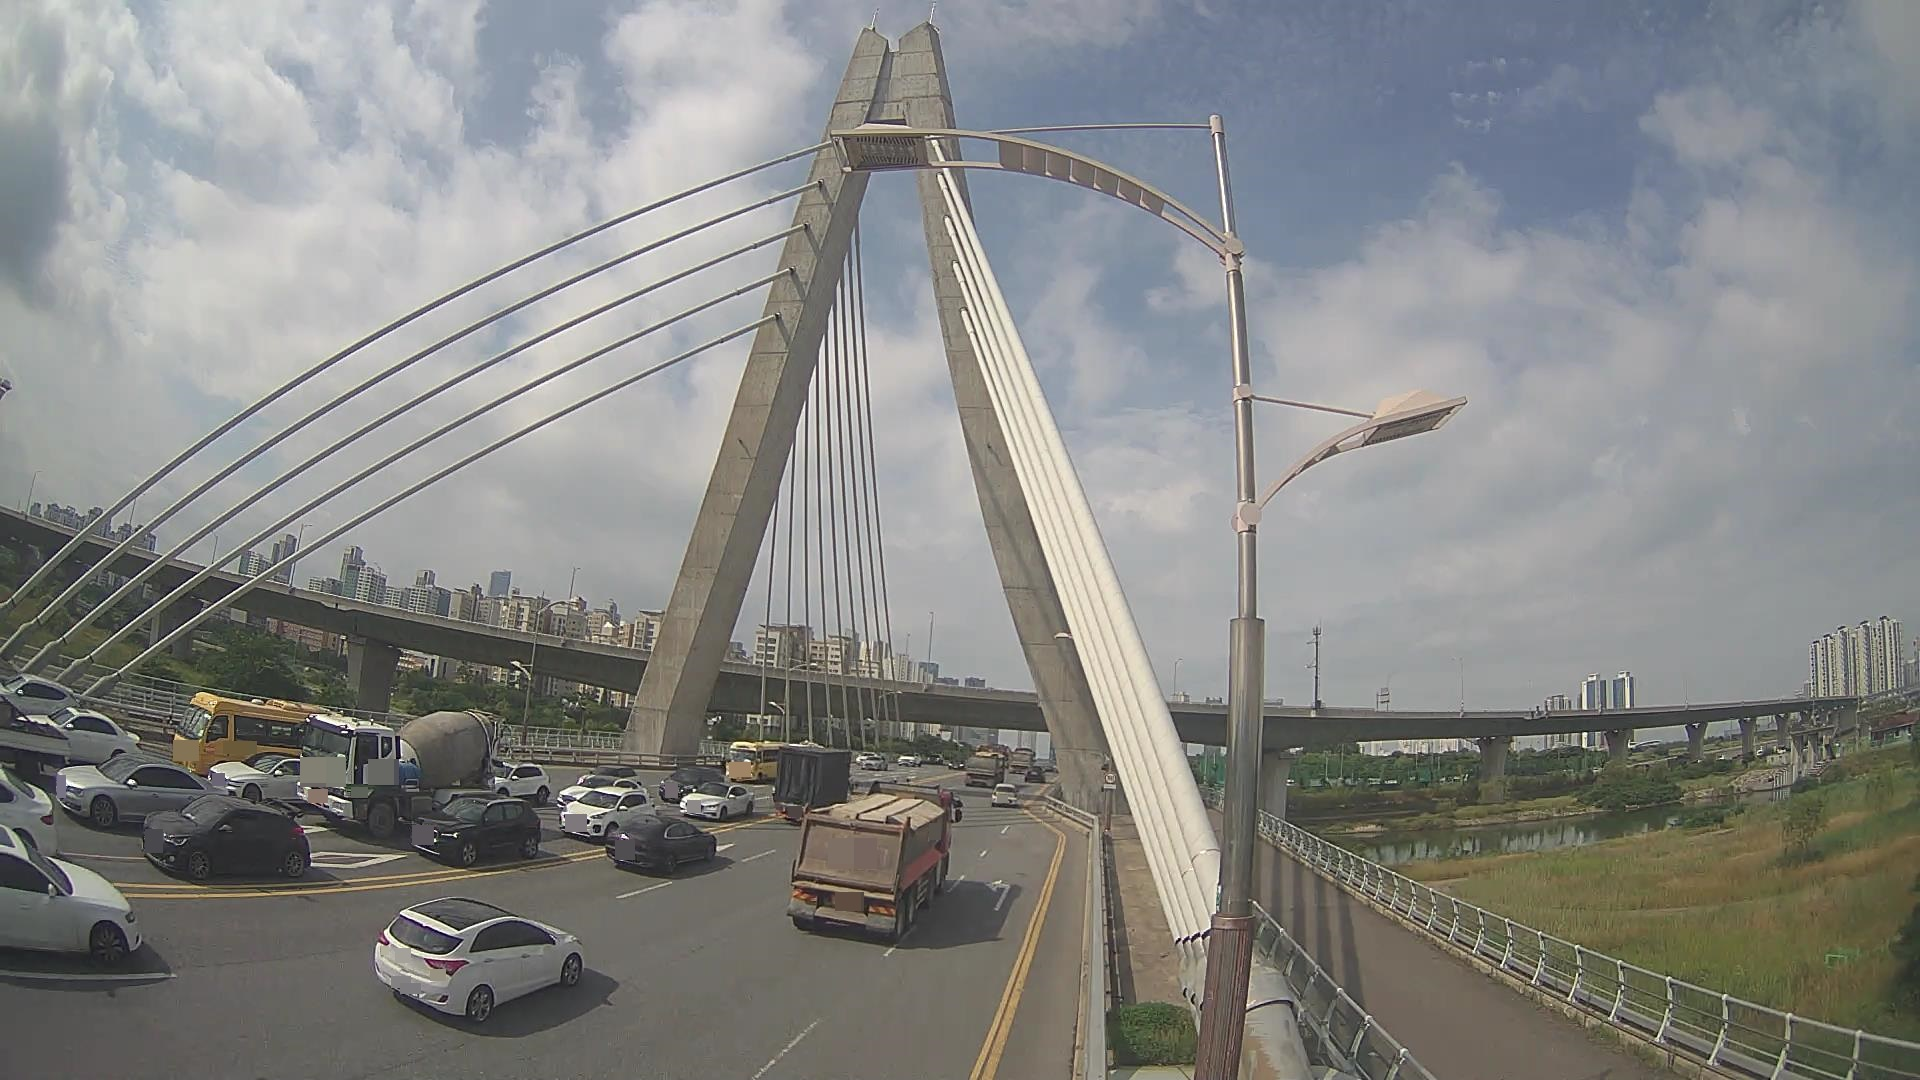정상차량: (787, 778, 963, 944)
